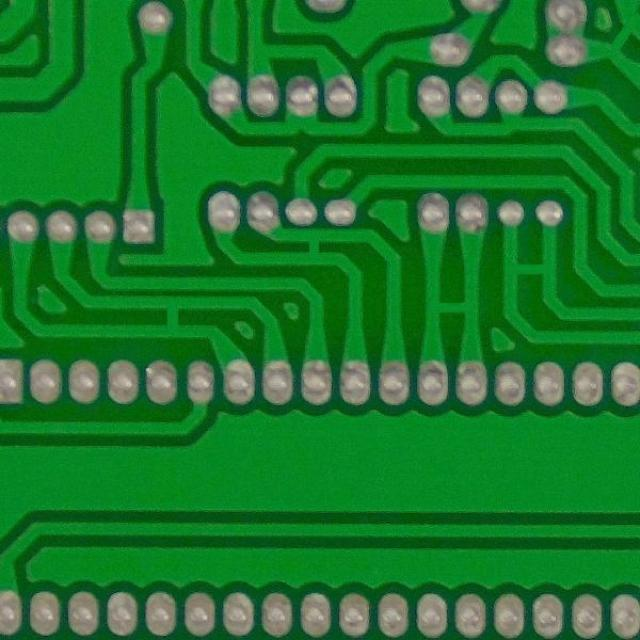Short_Circuit: (414, 286, 488, 330), (591, 7, 640, 68), (493, 250, 566, 290), (150, 288, 197, 344), (294, 224, 334, 272)
